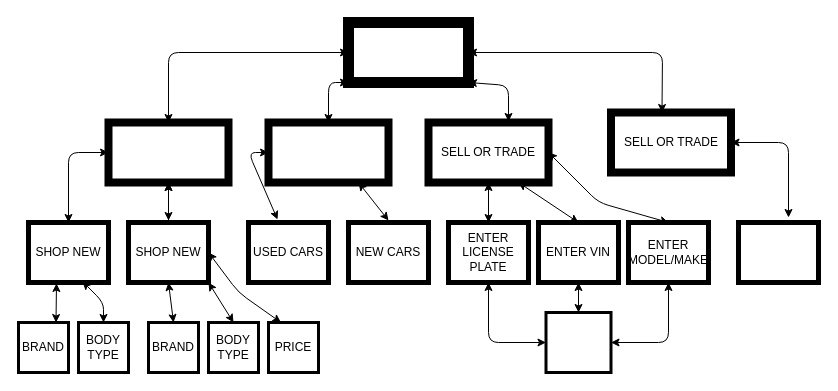
This 838x391 diagram has some shape labels left out. The shapes that lost their labels are listed below. From the top down, each one's centre as x and y in pixels, then its label:
At pixel 408 52: "HOME".
At pixel 168 152: "NEW".
At pixel 328 152: "USED".
At pixel 778 252: "SELECT MAKE/MODEL".
At pixel 578 342: "GET STARTED".
